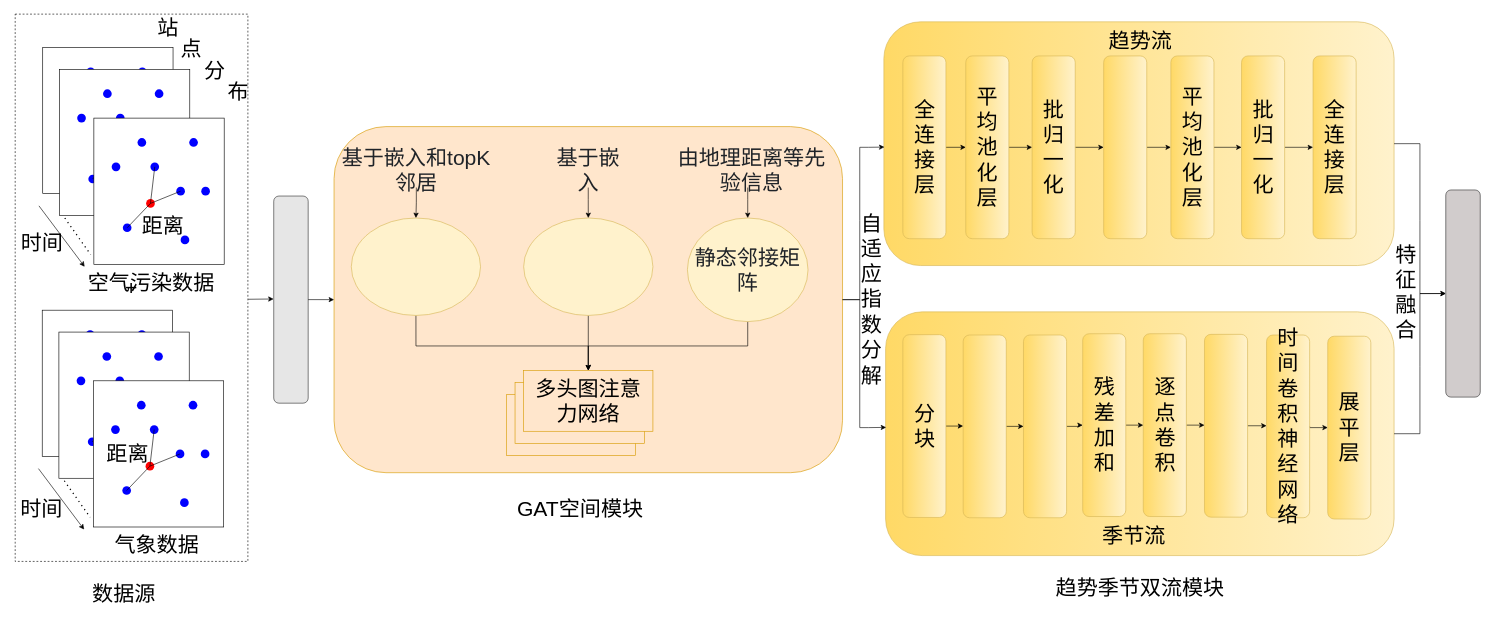
This 1491x629 diagram has some shape labels left out. Here are the shapes that lost their labels. From the top down, the centre of each, then its label:
At [1125,147]: "Times Block".
At [416,266]: "全局动态邻接矩阵".
At [588,266]: "局部动态邻接矩阵".
At [290,299]: "输入数据".
At [1462,293]: "输出预测数据".
At [984,426]: "Patch高维嵌入".
At [1045,426]: "深度卷积".
At [1226,425]: "展平全连接".
